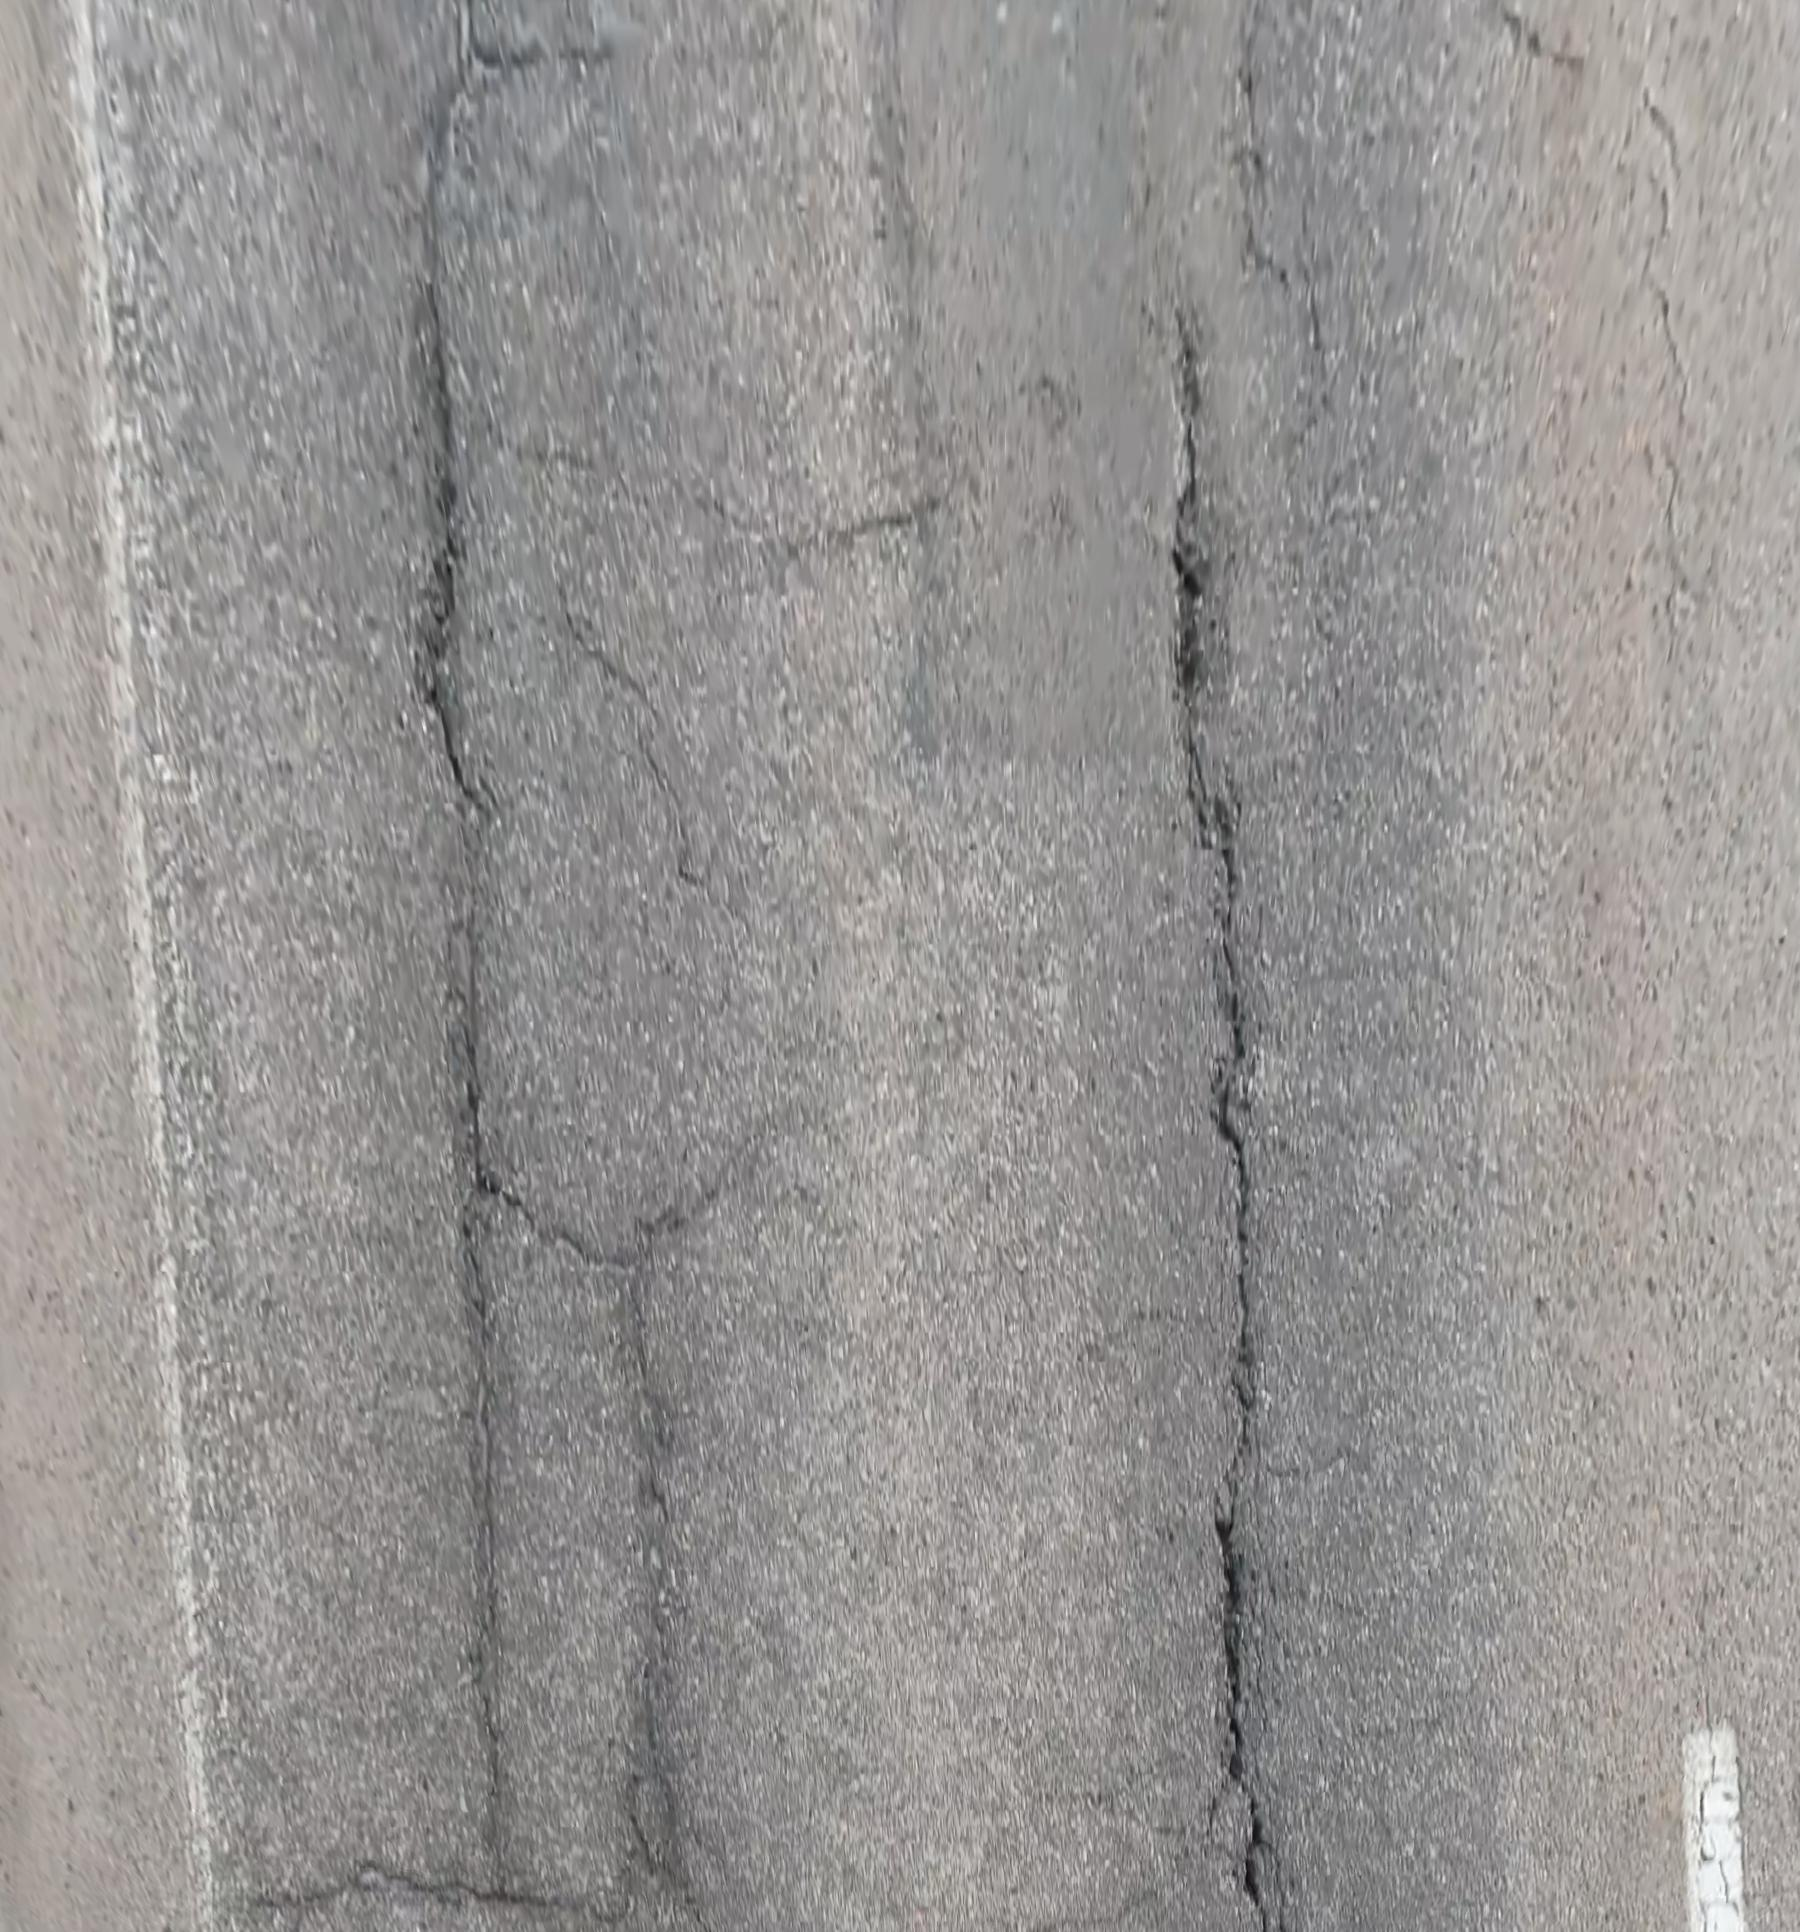pothole_patch_poor: (892, 0, 1265, 787)
